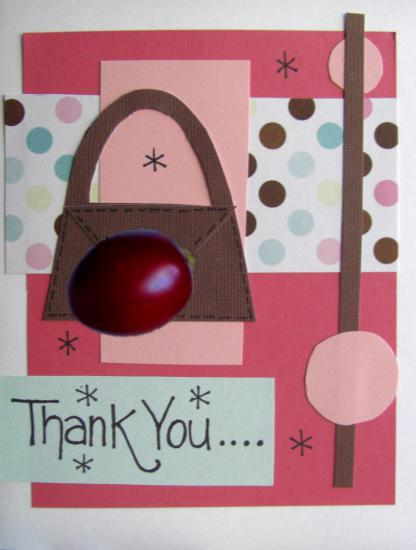Tamarillo: (64, 213, 203, 352)
